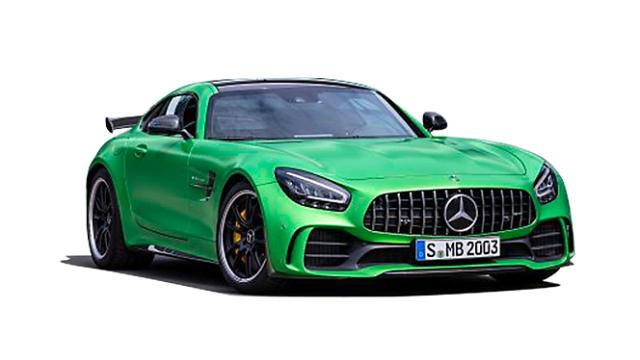benz: (86, 77, 576, 293)
